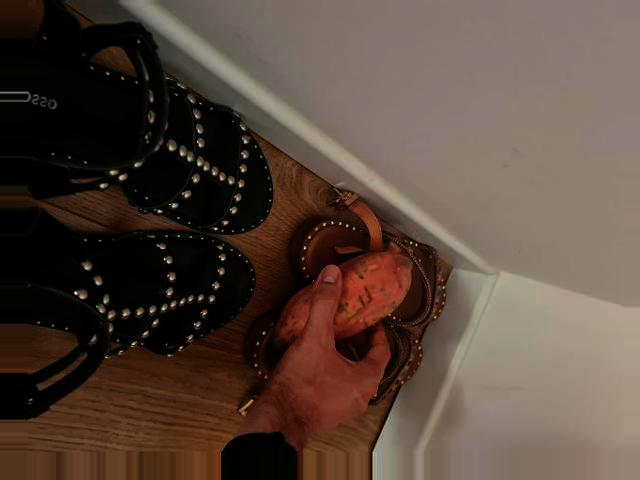sweet_potato: (272, 252, 415, 346)
